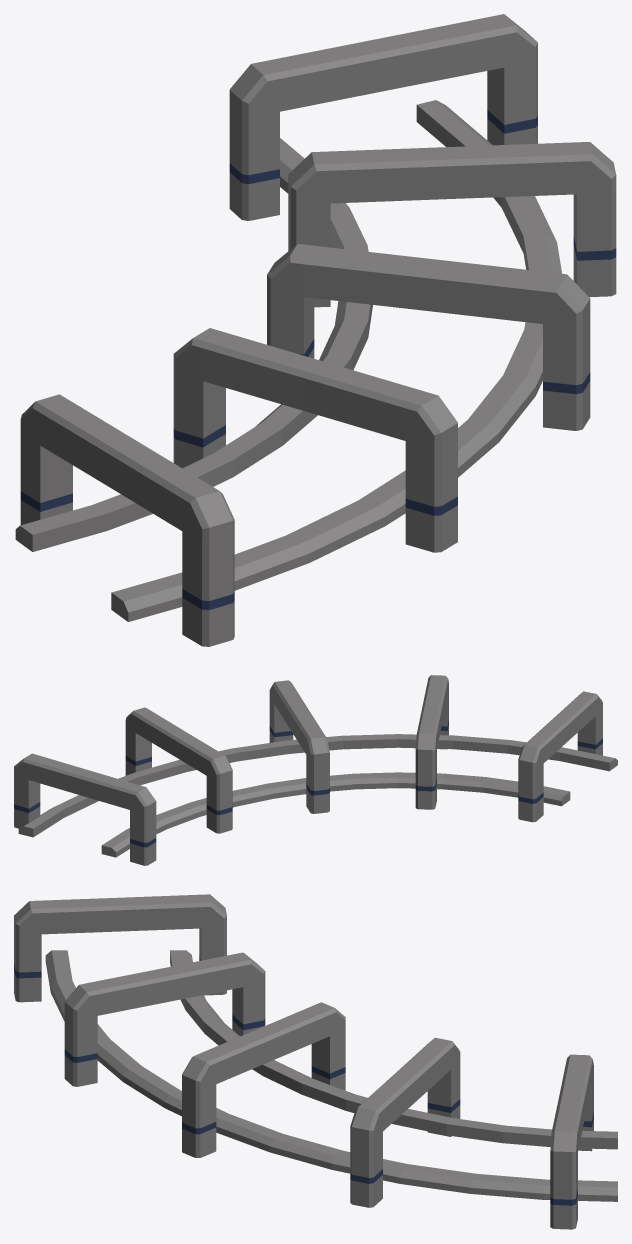
Rendered from curve_decor.fbx.
The picture shows the model from 3 angles, top to bottom: view 1: azimuth 30°, elevation 25°; view 2: azimuth 150°, elevation 25°; view 3: azimuth 270°, elevation 25°; orthographic projection. The views are drawn at different scales.
Visible parts, largest first — view 1: Circular_Structure.001, Cube.008, Cube.010, Cube.009, Cube.011, Cube.007; view 2: Circular_Structure.001, Cube.008, Cube.011, Cube.007, Cube.009, Cube.010; view 3: Circular_Structure.001, Cube.010, Cube.007, Cube.009, Cube.011, Cube.008.
Part boxes in pixels (x1,y1,x2,y2): Circular_Structure.001: [15, 100, 561, 621]; Cube.008: [229, 14, 537, 220]; Cube.010: [173, 328, 457, 552]; Cube.009: [267, 244, 590, 430]; Cube.011: [288, 142, 616, 307]; Cube.007: [20, 394, 234, 646]; Circular_Structure.001: [18, 734, 617, 857]; Cube.008: [14, 753, 156, 865]; Cube.011: [125, 707, 232, 833]; Cube.007: [518, 691, 602, 822]; Cube.009: [269, 680, 329, 813]; Cube.010: [415, 675, 448, 809]; Circular_Structure.001: [45, 950, 617, 1201]; Cube.010: [64, 952, 265, 1086]; Cube.007: [14, 894, 226, 1002]; Cube.009: [182, 1002, 345, 1157]; Cube.011: [350, 1037, 460, 1207]; Cube.008: [550, 1054, 593, 1229].
Size of the model in its own units: 1211 by 203 by 1214.
